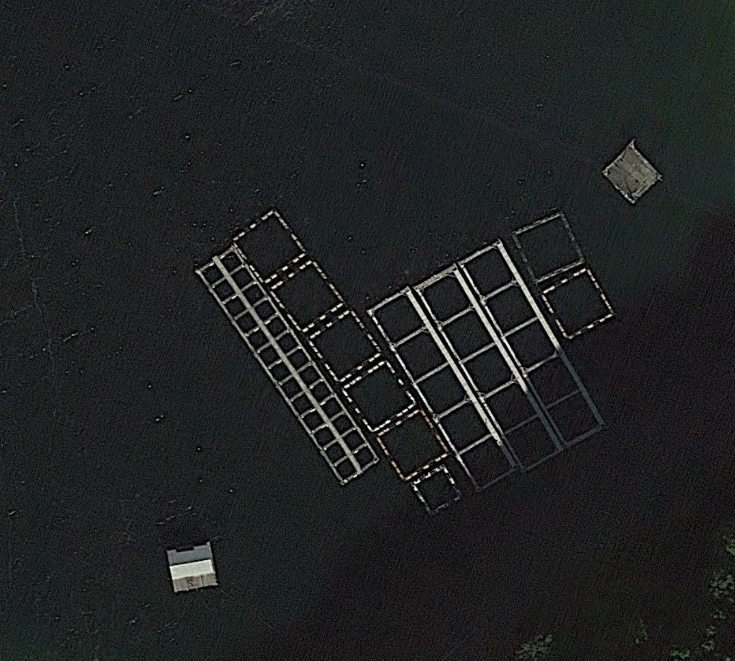platform: (599, 130, 677, 217), (159, 534, 227, 600)
square: (334, 345, 419, 430), (509, 204, 594, 284), (235, 207, 318, 287), (378, 401, 458, 483), (270, 258, 347, 332), (538, 260, 617, 331), (307, 304, 377, 375), (408, 458, 466, 519)
